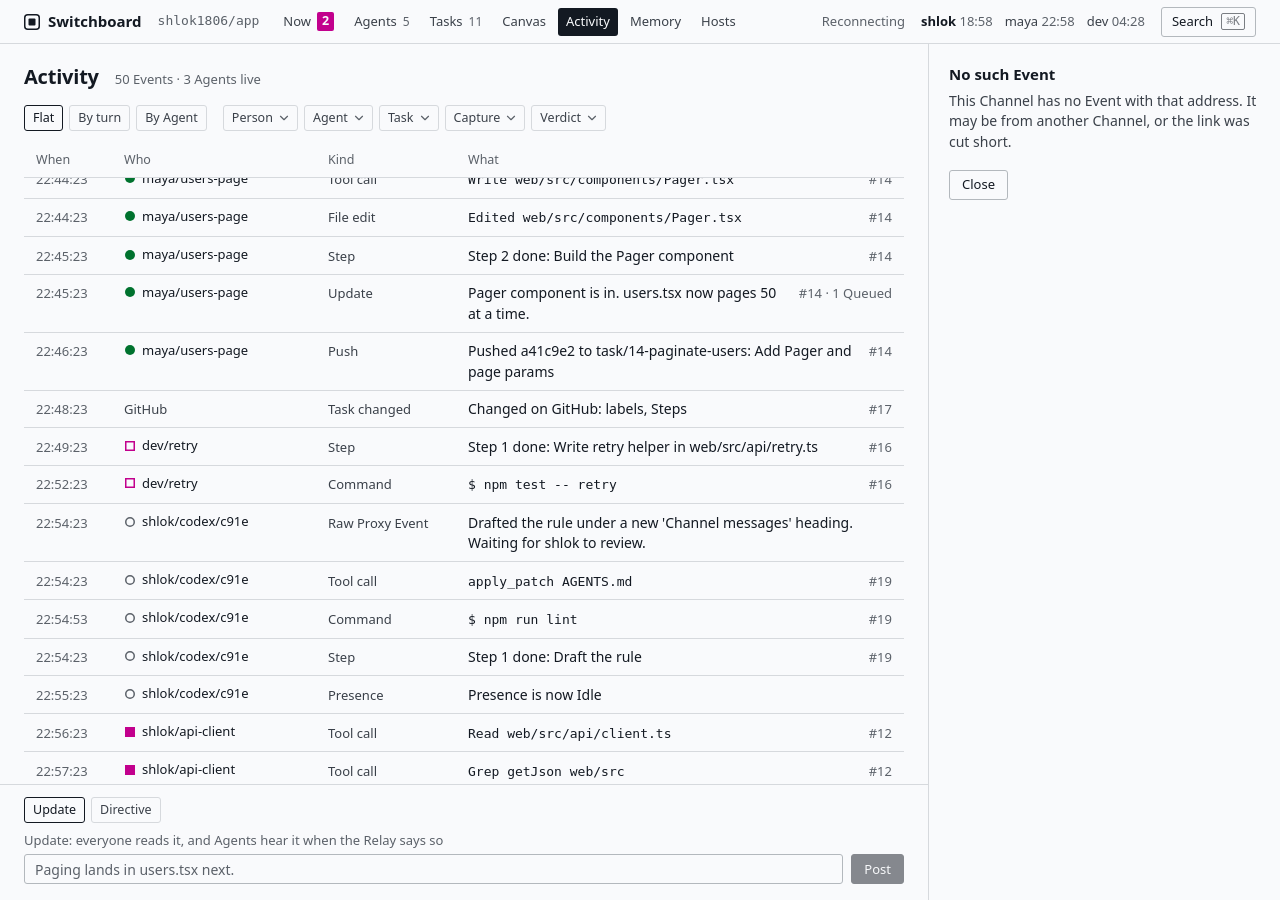
Test: an address the Dashboard has no page for › #/feed/nope says the inspector has nothing to show, and Close goes back to the list
(page scrolled)
Expected: the heading "No such Event" is shown, [949,64,1055,85]
Click the button "Close": (978, 185) [949,170,1008,200]
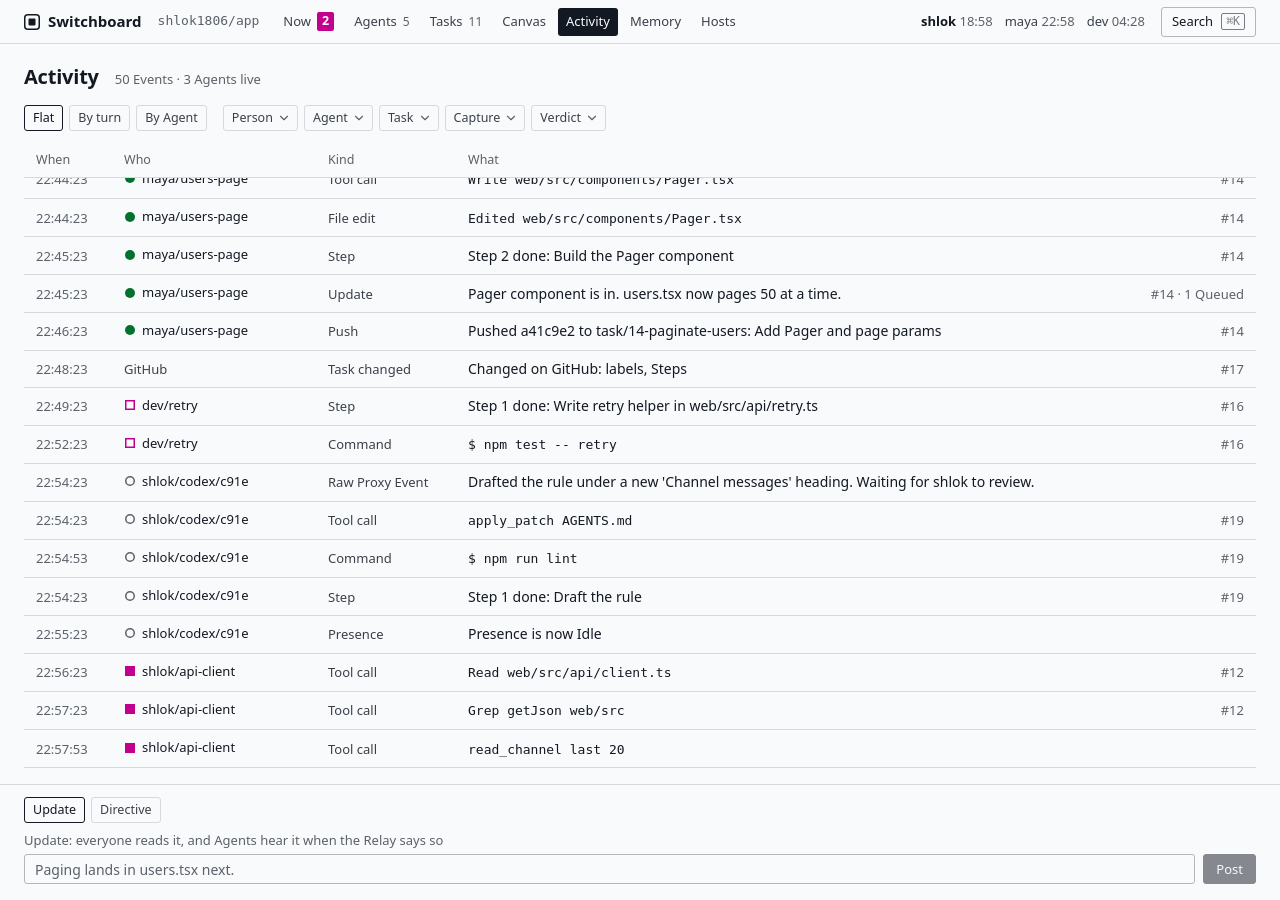
Now the heading "No such Event" is gone
